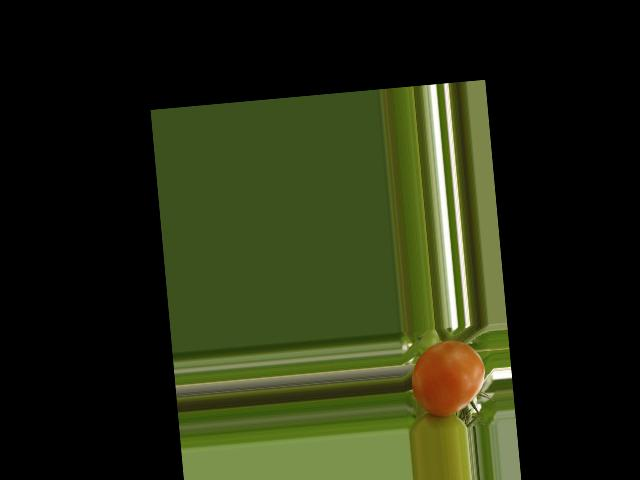tomato: (408, 338, 488, 419)
